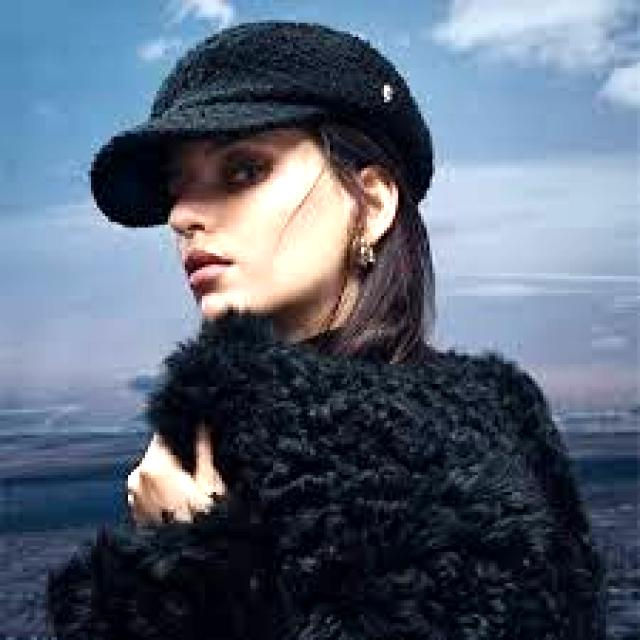hat: (92, 20, 432, 227)
